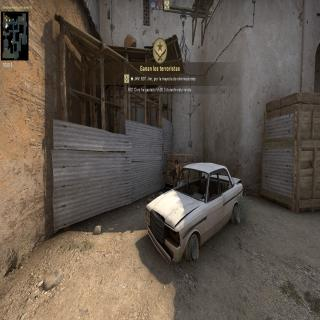T-Head: (174, 158, 179, 170)
